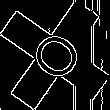O_SE: (22, 23, 88, 87)
